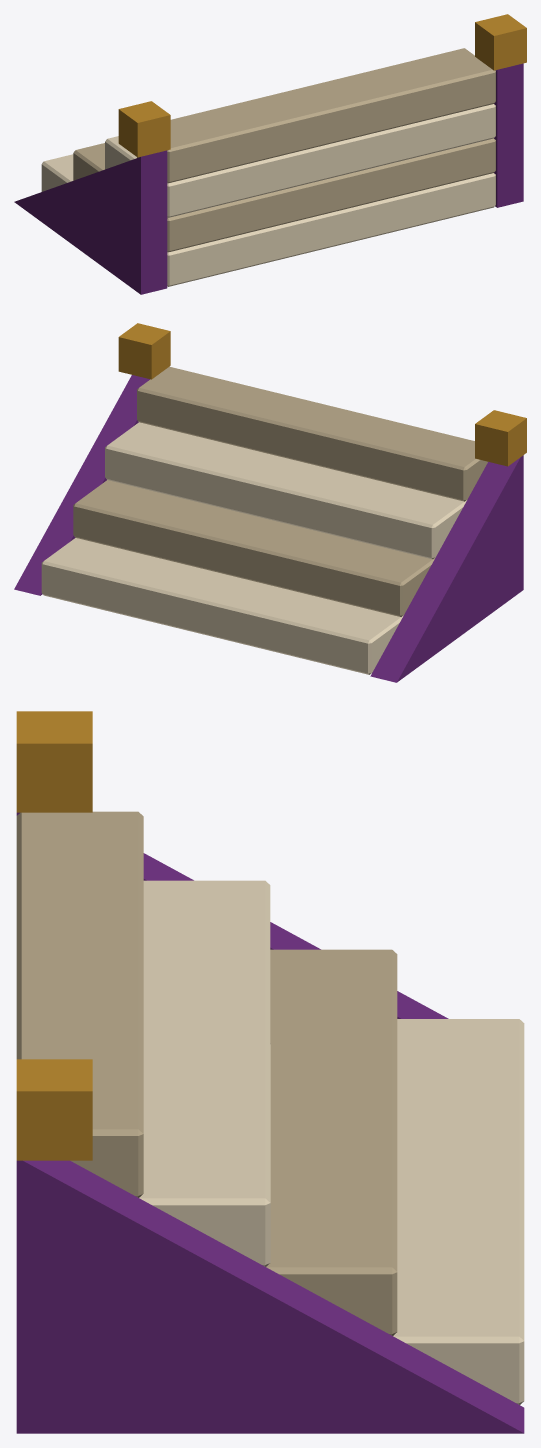
Rendered from SM_SpinaStairs.fbx.
The picture shows the model from 3 angles, top to bottom: view 1: azimuth 30°, elevation 25°; view 2: azimuth 150°, elevation 25°; view 3: azimuth 270°, elevation 25°; orthographic projection. The views are drawn at different scales.
Parts seen in each view (by area): view 1: SM_SpinaStairs; view 2: SM_SpinaStairs; view 3: SM_SpinaStairs.
Part boxes in pixels (bbox=[...]): SM_SpinaStairs: bbox=[14, 14, 526, 294]; SM_SpinaStairs: bbox=[14, 323, 526, 682]; SM_SpinaStairs: bbox=[16, 711, 524, 1433].
Bounding box in the file's own units: 3.54 × 2 × 1.5.
